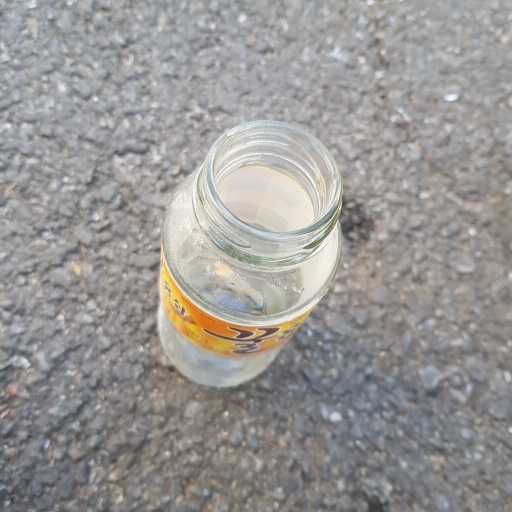Glass_4: (148, 116, 342, 398)
